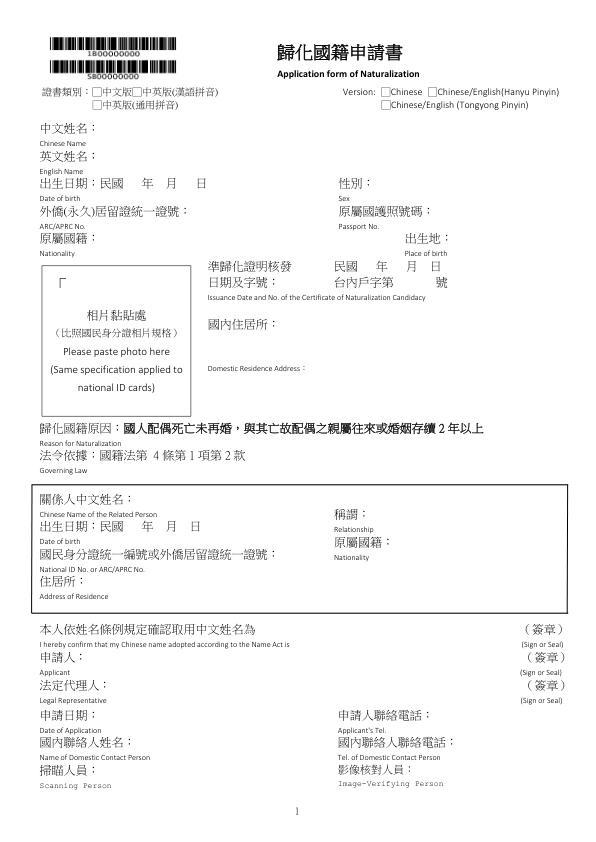check_box: (130, 85, 143, 99), (90, 100, 102, 113), (90, 85, 101, 98), (427, 85, 437, 98), (380, 85, 390, 97), (380, 99, 390, 111)
text: (37, 419, 487, 447), (36, 622, 301, 649), (206, 276, 452, 305), (48, 345, 184, 394), (272, 40, 432, 81), (38, 547, 278, 573), (37, 448, 250, 475), (35, 177, 214, 202), (52, 307, 181, 341), (38, 519, 206, 545), (35, 204, 192, 230), (204, 258, 449, 273), (37, 492, 159, 519), (333, 735, 457, 761), (35, 736, 155, 761), (335, 763, 450, 789), (334, 205, 435, 230), (335, 708, 432, 734), (35, 764, 115, 792), (35, 679, 113, 704), (37, 707, 105, 735), (37, 576, 112, 601), (35, 232, 98, 259), (331, 536, 394, 563), (391, 100, 532, 112), (37, 122, 98, 147), (37, 150, 98, 175), (438, 86, 561, 98), (518, 679, 569, 707), (401, 232, 454, 258), (520, 621, 568, 649), (518, 650, 566, 678), (35, 650, 83, 676), (330, 507, 376, 534), (206, 364, 308, 375), (204, 318, 278, 333), (335, 175, 372, 203), (143, 87, 221, 99), (101, 100, 180, 111), (40, 85, 89, 97), (340, 85, 376, 97), (101, 85, 131, 97), (390, 86, 424, 96)
